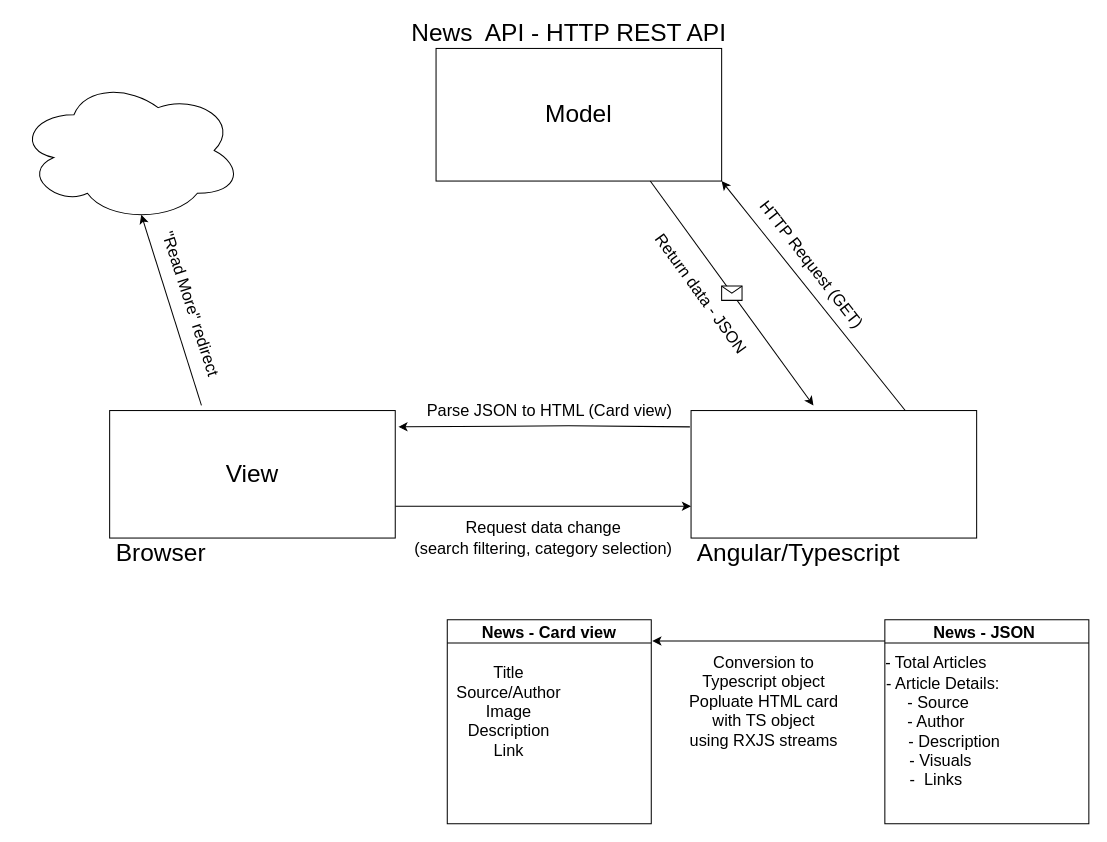
Image size: 1107x842. Some labels were removed from this diagram. Each missing label, with the centre of its shape:
"Controller" goes at [833,474].
"External website" goes at [129,150].
